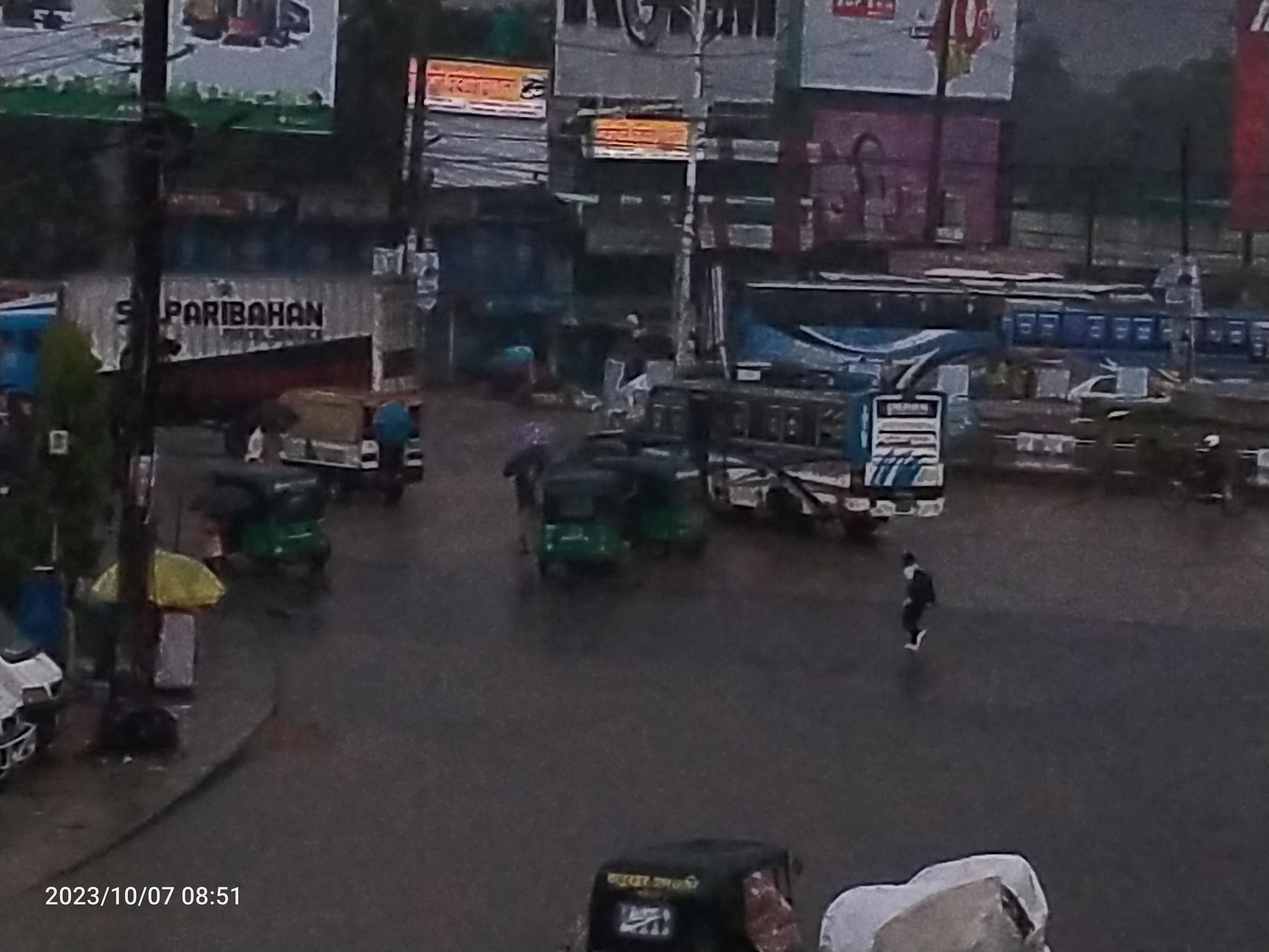Bus: (627, 327, 962, 578), (716, 239, 1051, 430), (964, 273, 1269, 435)
Car: (257, 380, 447, 529)
